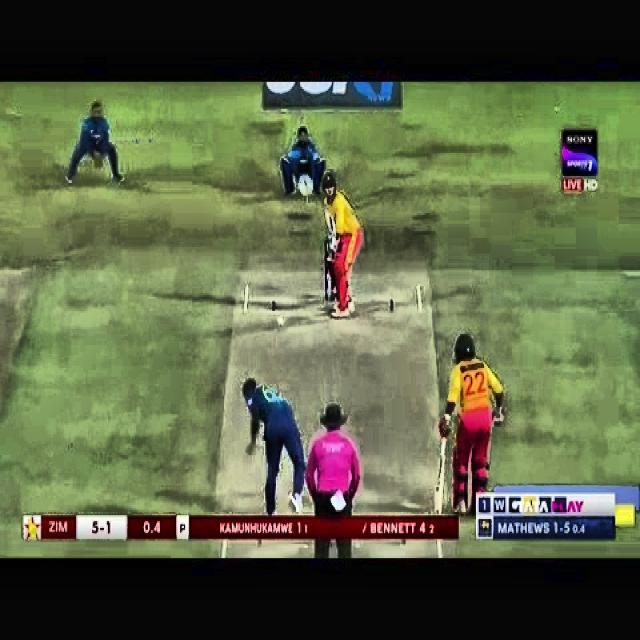Left-stump: (326, 263, 329, 302)
Middle-stump: (332, 280, 336, 301)
